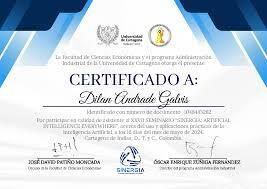firma: (150, 140, 248, 174), (26, 138, 103, 173)
institucion: (93, 24, 145, 50)
nombre: (75, 88, 201, 108)
